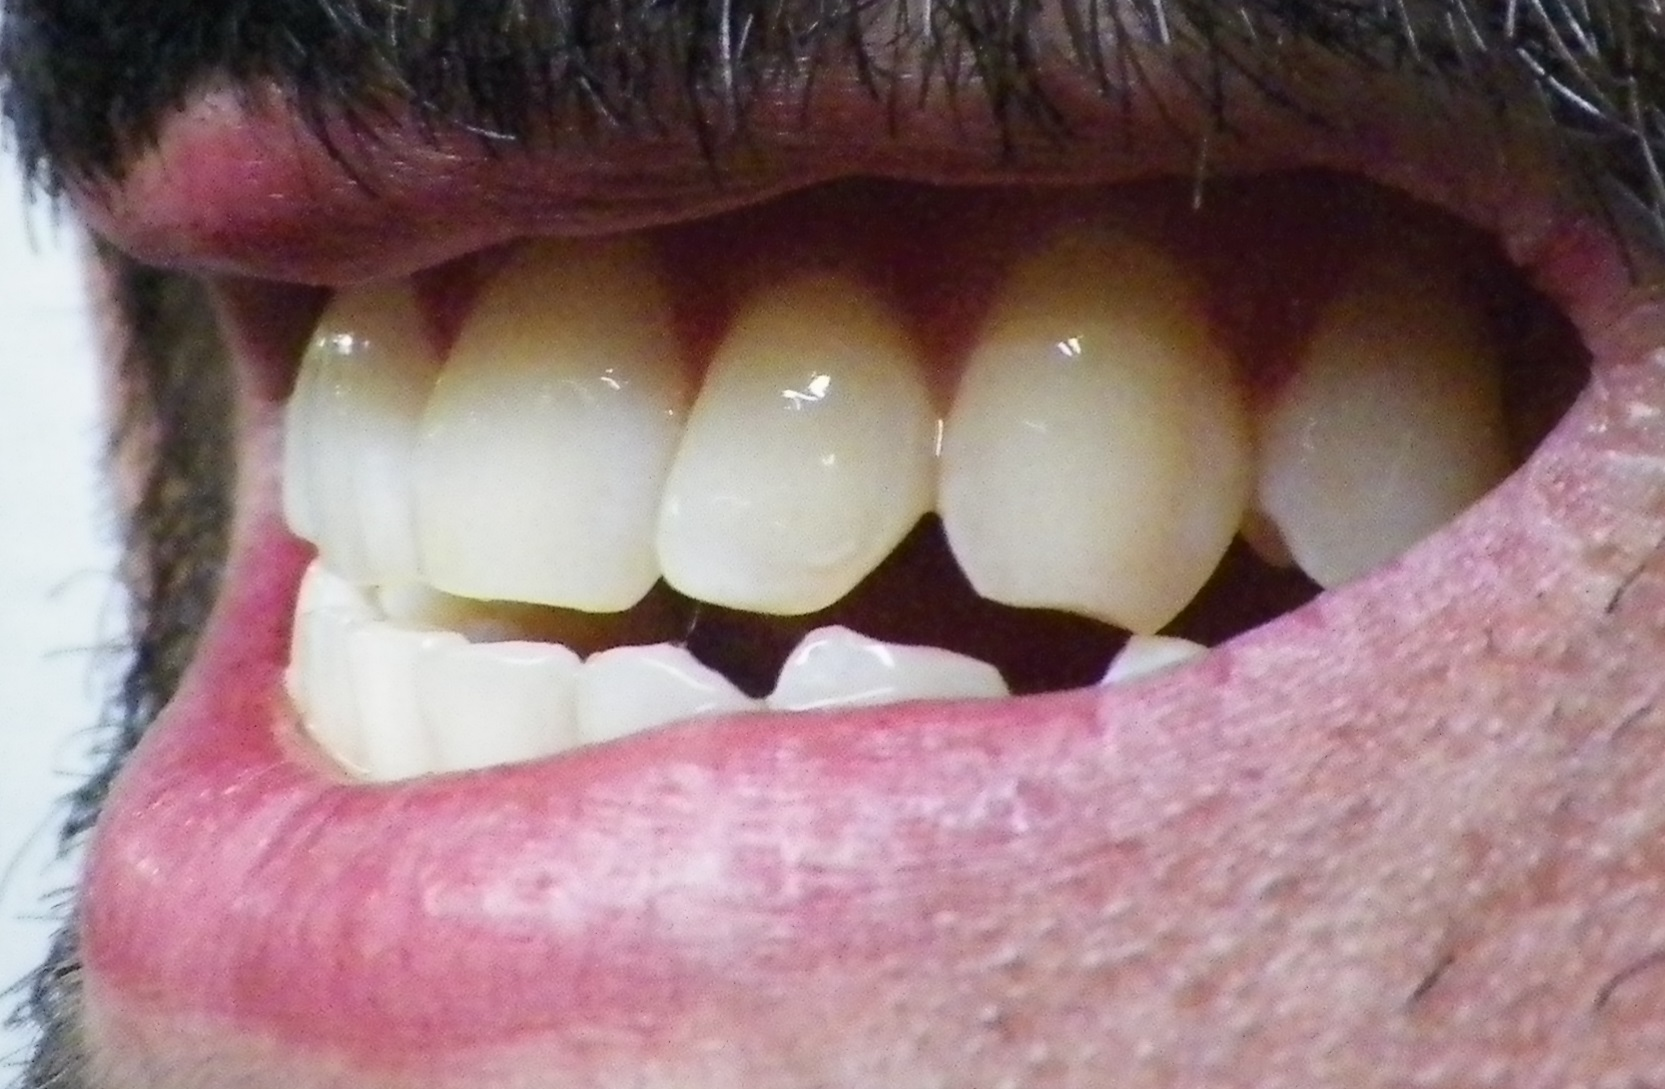boca: (273, 252, 1541, 782)
